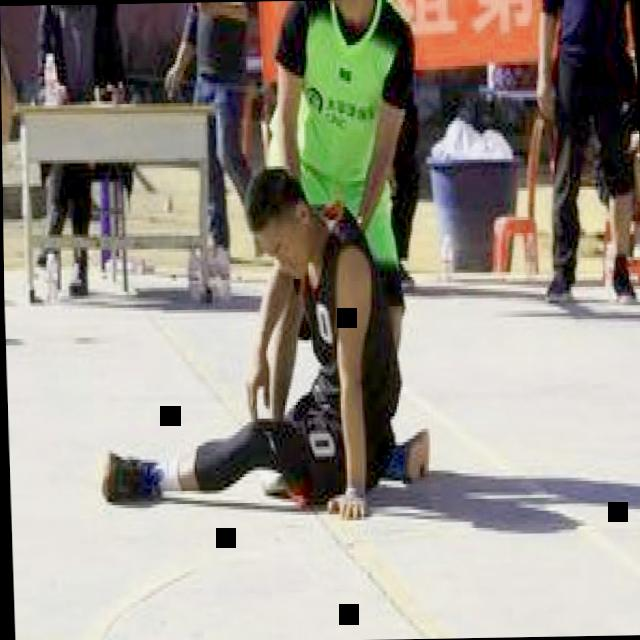Fall-Detected: (61, 134, 442, 538)
